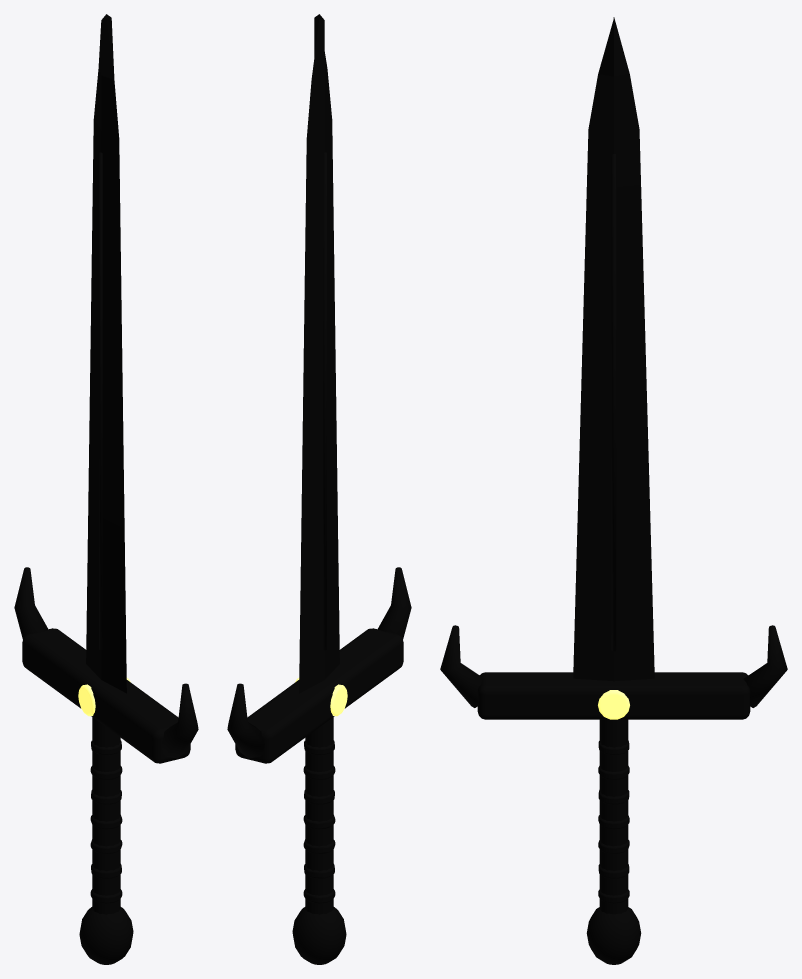
File: mandoble.glb
3 renders of one model, left to right at view 1: azimuth 30°, elevation 25°; view 2: azimuth 150°, elevation 25°; view 3: azimuth 270°, elevation 25°, orthographic.
Visible parts, largest first — view 1: mandoble; view 2: mandoble; view 3: mandoble.
Boxes of the visible parts, <box> form: mandoble: <box>14,14,198,964</box>; mandoble: <box>227,14,411,964</box>; mandoble: <box>440,17,787,964</box>.
Size of the model in its own units: 0.1 by 1.92 by 0.6377.
Materials: 2 (1 with a texture image).
